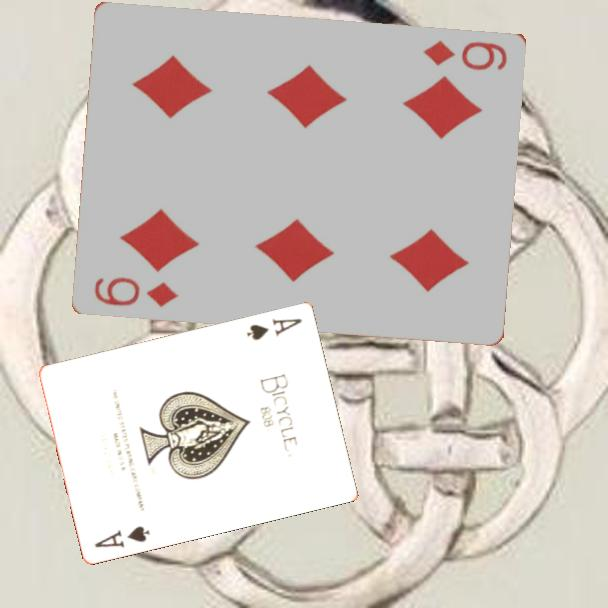d06: (91, 273, 182, 310), (420, 36, 510, 73)
s01: (243, 315, 305, 343), (91, 522, 153, 550)
